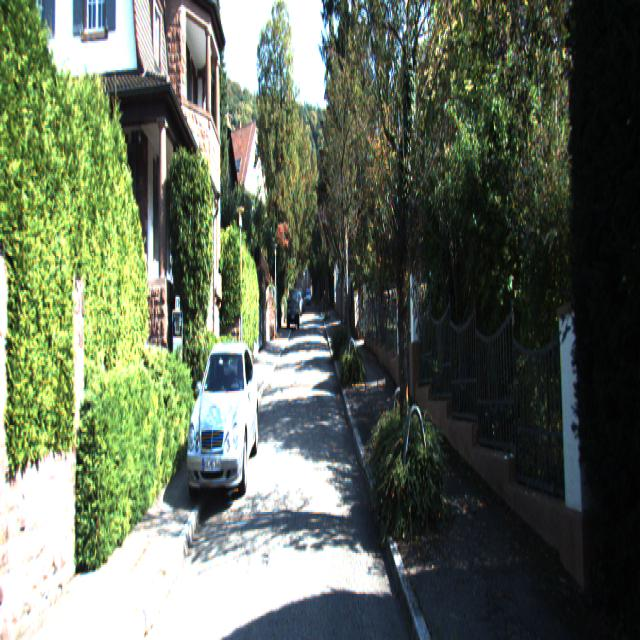Car: (184, 332, 259, 506), (287, 286, 300, 330)
